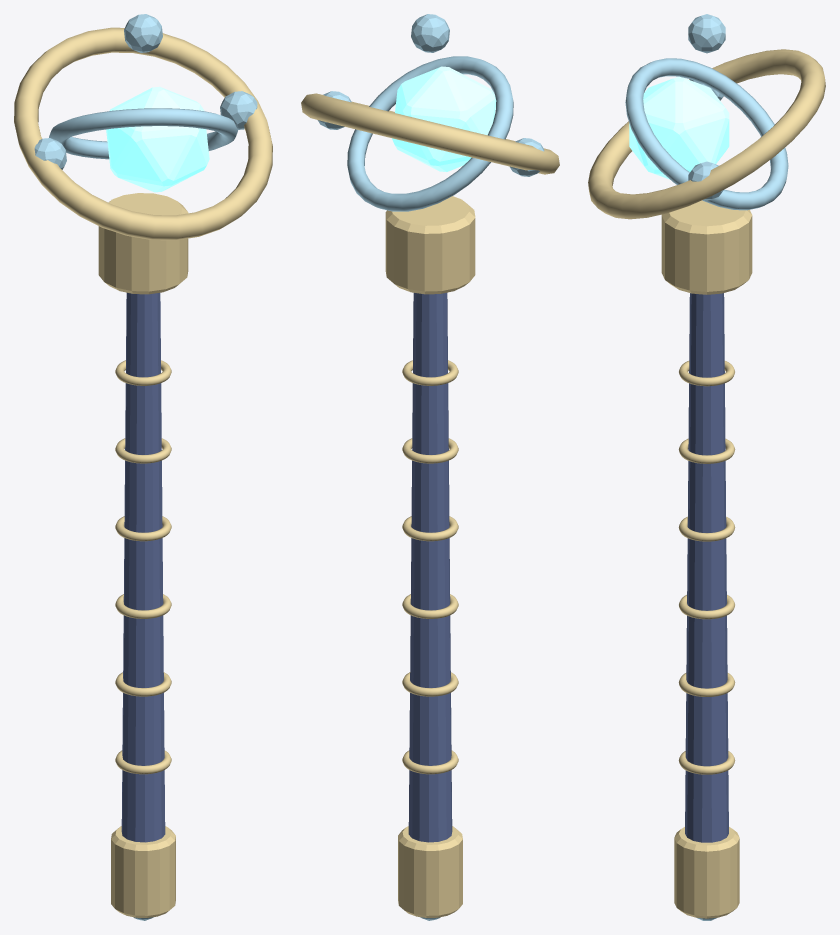
Rendered from mage-staff-01-astral-orrery.glb.
3 views of the same model, side by side, from view 1: azimuth 30°, elevation 25°; view 2: azimuth 150°, elevation 25°; view 3: azimuth 270°, elevation 25° (orthographic).
Visible parts, largest first — view 1: mage-staff-01-astral-orrery_WoodenShaft, mage-staff-01-astral-orrery_OrreryOuterRing, mage-staff-01-astral-orrery_CrownStar, mage-staff-01-astral-orrery_CrownCollar, mage-staff-01-astral-orrery_LowerFerrule, mage-staff-01-astral-orrery_OrreryInnerRing, mage-staff-01-astral-orrery_OrbitPoint_1, mage-staff-01-astral-orrery_OrbitPoint_2, mage-staff-01-astral-orrery_ShaftBand_5, mage-staff-01-astral-orrery_ShaftBand_6, mage-staff-01-astral-orrery_OrbitPoint_4, mage-staff-01-astral-orrery_ShaftBand_4 (+3 smaller); view 2: mage-staff-01-astral-orrery_WoodenShaft, mage-staff-01-astral-orrery_CrownCollar, mage-staff-01-astral-orrery_OrreryOuterRing, mage-staff-01-astral-orrery_OrreryInnerRing, mage-staff-01-astral-orrery_CrownStar, mage-staff-01-astral-orrery_LowerFerrule, mage-staff-01-astral-orrery_OrbitPoint_1, mage-staff-01-astral-orrery_ShaftBand_5, mage-staff-01-astral-orrery_ShaftBand_6, mage-staff-01-astral-orrery_ShaftBand_4, mage-staff-01-astral-orrery_ShaftBand_3, mage-staff-01-astral-orrery_ShaftBand_2 (+1 smaller); view 3: mage-staff-01-astral-orrery_WoodenShaft, mage-staff-01-astral-orrery_OrreryOuterRing, mage-staff-01-astral-orrery_CrownCollar, mage-staff-01-astral-orrery_OrreryInnerRing, mage-staff-01-astral-orrery_CrownStar, mage-staff-01-astral-orrery_LowerFerrule, mage-staff-01-astral-orrery_OrbitPoint_1, mage-staff-01-astral-orrery_ShaftBand_6, mage-staff-01-astral-orrery_ShaftBand_5, mage-staff-01-astral-orrery_ShaftBand_4, mage-staff-01-astral-orrery_ShaftBand_3, mage-staff-01-astral-orrery_ShaftBand_2 (+1 smaller).
Boxes of the visible parts, x1=… form: mage-staff-01-astral-orrery_WoodenShaft: x1=121, y1=292, x2=165, y2=842; mage-staff-01-astral-orrery_OrreryOuterRing: x1=14, y1=27, x2=272, y2=240; mage-staff-01-astral-orrery_CrownStar: x1=106, y1=86, x2=209, y2=192; mage-staff-01-astral-orrery_CrownCollar: x1=98, y1=193, x2=188, y2=294; mage-staff-01-astral-orrery_LowerFerrule: x1=111, y1=826, x2=175, y2=917; mage-staff-01-astral-orrery_OrreryInnerRing: x1=49, y1=108, x2=237, y2=159; mage-staff-01-astral-orrery_OrbitPoint_1: x1=124, y1=14, x2=162, y2=52; mage-staff-01-astral-orrery_OrbitPoint_2: x1=220, y1=91, x2=257, y2=129; mage-staff-01-astral-orrery_ShaftBand_5: x1=115, y1=438, x2=171, y2=463; mage-staff-01-astral-orrery_ShaftBand_6: x1=115, y1=360, x2=171, y2=385; mage-staff-01-astral-orrery_OrbitPoint_4: x1=34, y1=138, x2=66, y2=169; mage-staff-01-astral-orrery_ShaftBand_4: x1=115, y1=516, x2=171, y2=541; mage-staff-01-astral-orrery_WoodenShaft: x1=408, y1=292, x2=452, y2=842; mage-staff-01-astral-orrery_CrownCollar: x1=385, y1=196, x2=475, y2=294; mage-staff-01-astral-orrery_OrreryOuterRing: x1=301, y1=93, x2=559, y2=174; mage-staff-01-astral-orrery_OrreryInnerRing: x1=347, y1=56, x2=513, y2=211; mage-staff-01-astral-orrery_CrownStar: x1=392, y1=66, x2=496, y2=171; mage-staff-01-astral-orrery_LowerFerrule: x1=398, y1=826, x2=462, y2=917; mage-staff-01-astral-orrery_OrbitPoint_1: x1=411, y1=14, x2=449, y2=52; mage-staff-01-astral-orrery_ShaftBand_5: x1=402, y1=438, x2=458, y2=463; mage-staff-01-astral-orrery_ShaftBand_6: x1=402, y1=360, x2=458, y2=385; mage-staff-01-astral-orrery_ShaftBand_4: x1=402, y1=516, x2=458, y2=541; mage-staff-01-astral-orrery_ShaftBand_3: x1=402, y1=594, x2=458, y2=618; mage-staff-01-astral-orrery_ShaftBand_2: x1=402, y1=672, x2=458, y2=696; mage-staff-01-astral-orrery_WoodenShaft: x1=685, y1=293, x2=728, y2=842; mage-staff-01-astral-orrery_OrreryOuterRing: x1=588, y1=49, x2=825, y2=219; mage-staff-01-astral-orrery_CrownCollar: x1=661, y1=200, x2=752, y2=294; mage-staff-01-astral-orrery_OrreryInnerRing: x1=625, y1=58, x2=788, y2=210; mage-staff-01-astral-orrery_CrownStar: x1=629, y1=76, x2=729, y2=179; mage-staff-01-astral-orrery_LowerFerrule: x1=674, y1=827, x2=739, y2=918; mage-staff-01-astral-orrery_OrbitPoint_1: x1=688, y1=14, x2=725, y2=53; mage-staff-01-astral-orrery_ShaftBand_6: x1=679, y1=361, x2=734, y2=386; mage-staff-01-astral-orrery_ShaftBand_5: x1=678, y1=438, x2=735, y2=463; mage-staff-01-astral-orrery_ShaftBand_4: x1=678, y1=516, x2=735, y2=541; mage-staff-01-astral-orrery_ShaftBand_3: x1=679, y1=595, x2=734, y2=619; mage-staff-01-astral-orrery_ShaftBand_2: x1=678, y1=673, x2=735, y2=696.
Bounding box in the file's own units: 0.53 × 1.97 × 0.4716.
